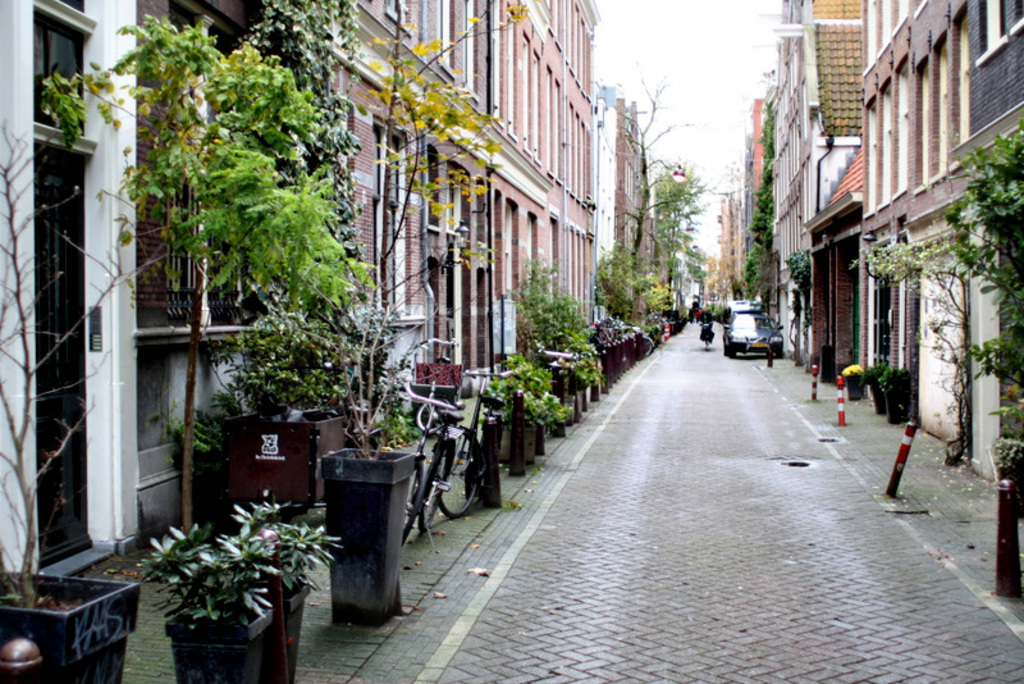Tree: (87, 12, 392, 490), (608, 73, 737, 316), (651, 160, 702, 307)
